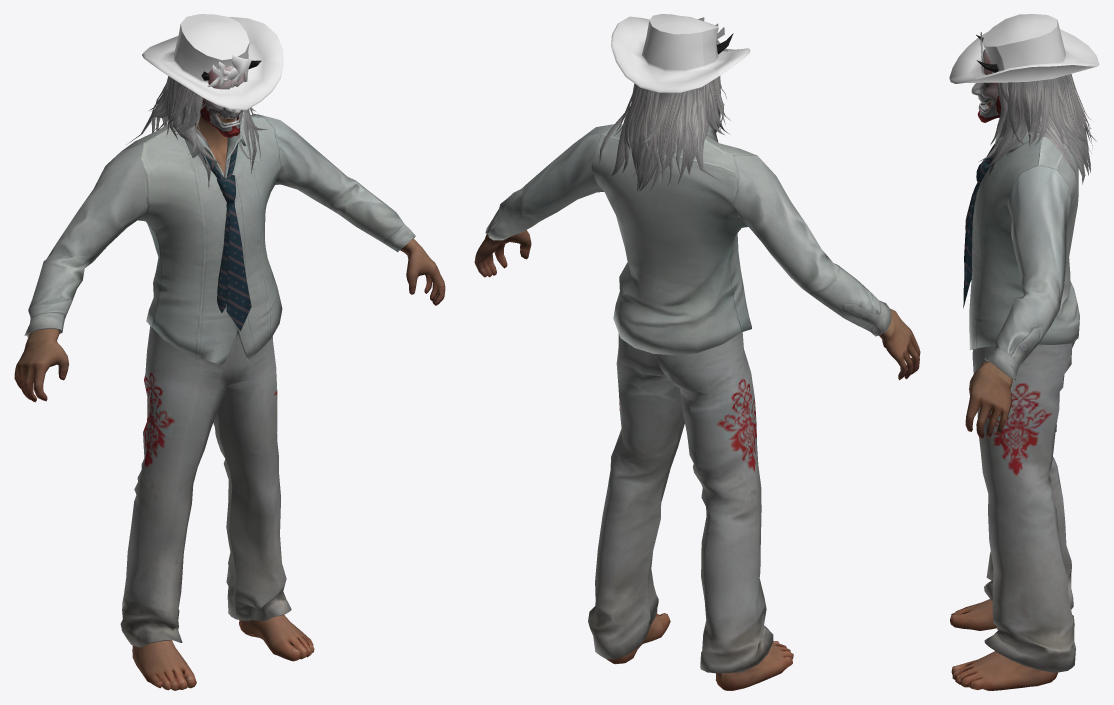
Rendered from kingred.001.glb.
3 views of the same model, side by side, from view 1: azimuth 30°, elevation 25°; view 2: azimuth 150°, elevation 25°; view 3: azimuth 270°, elevation 25° (orthographic). The views are drawn at different scales.
Parts seen in each view (by area): view 1: kingred.001; view 2: kingred.001; view 3: kingred.001.
Boxes of the visible parts, <box> form: kingred.001: <box>14,14,445,690</box>; kingred.001: <box>474,14,920,690</box>; kingred.001: <box>949,14,1099,690</box>.
Size of the model in its own units: 0.6356 by 0.9082 by 0.1948.
6 materials, 5 textured.
